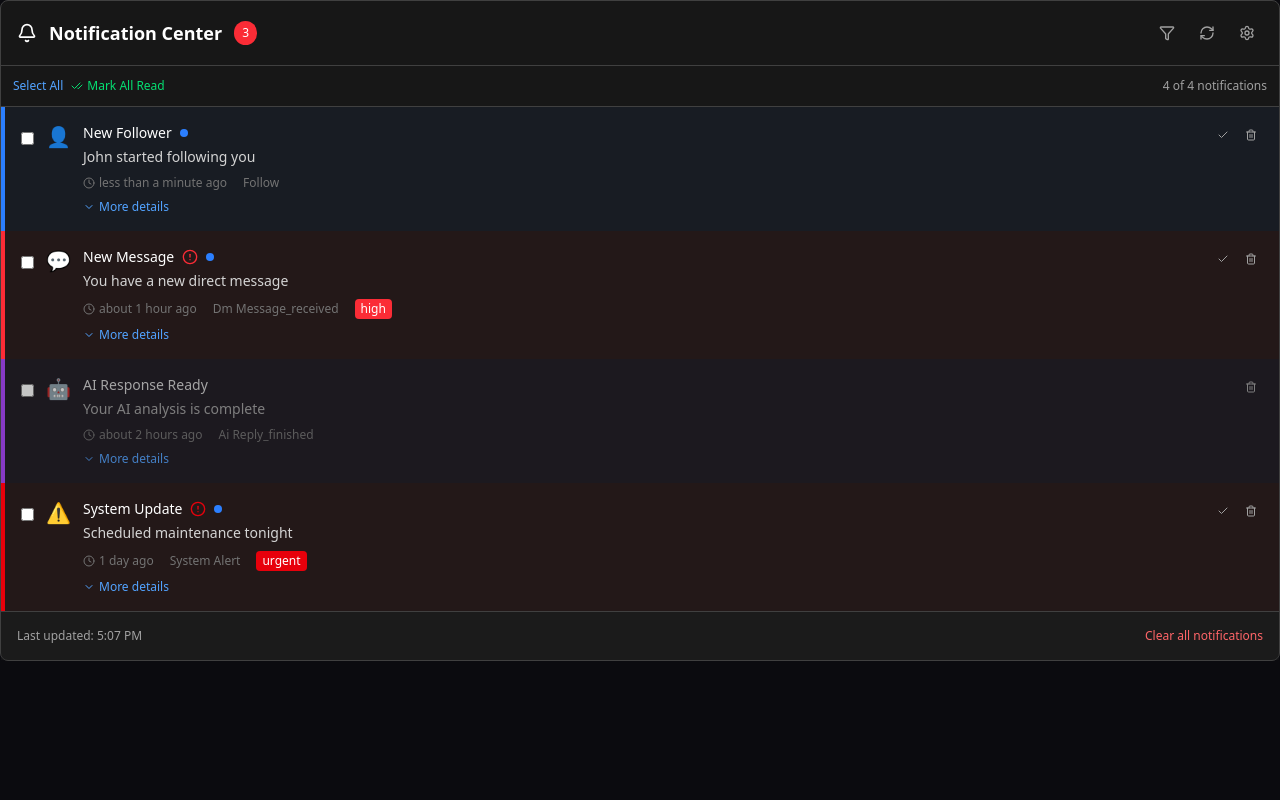
Test case: NotificationCenter › Filters › should filter by status
Note: Open filters
Click the button titled "Toggle filters" at (1167, 33), box [1151,17,1183,49]
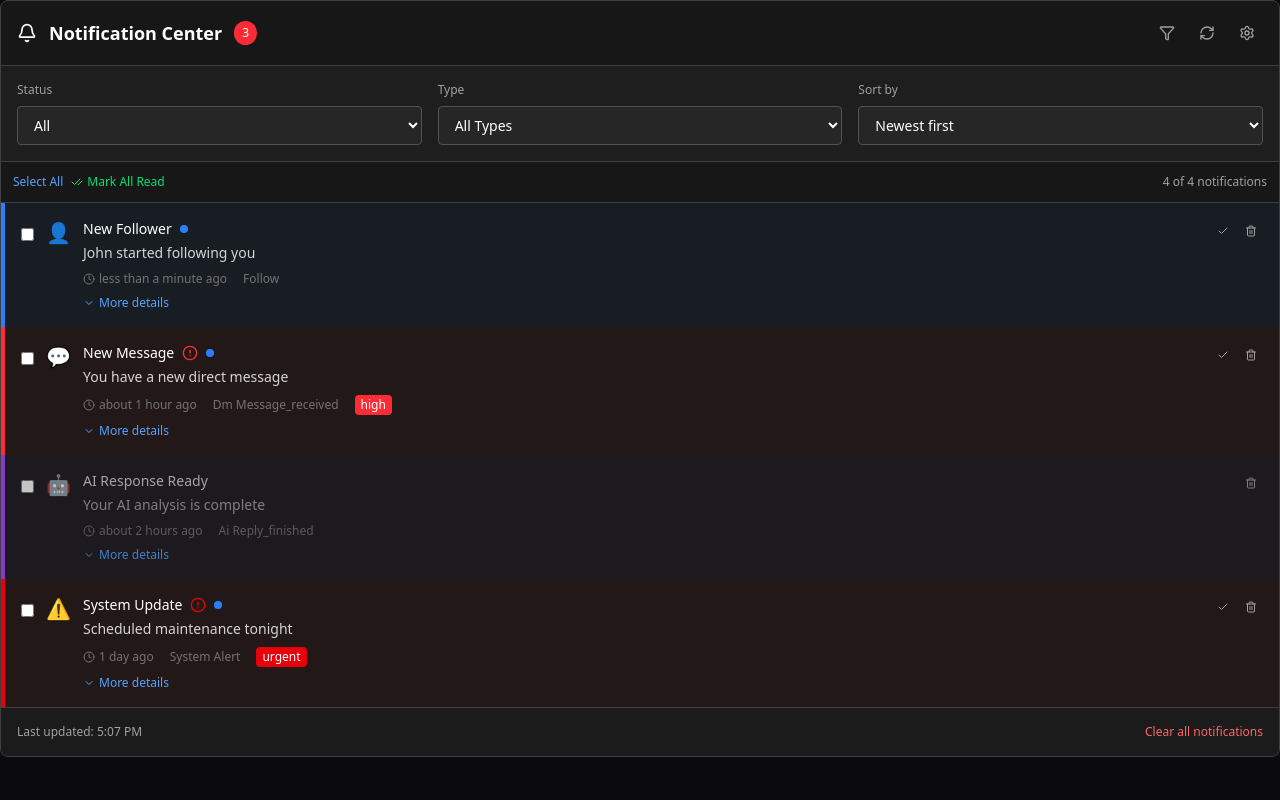
Note: Change status filter to unread
Select "Unread" in the dropdown showing "All" below "Status" at (219, 126), box [17,106,422,145]
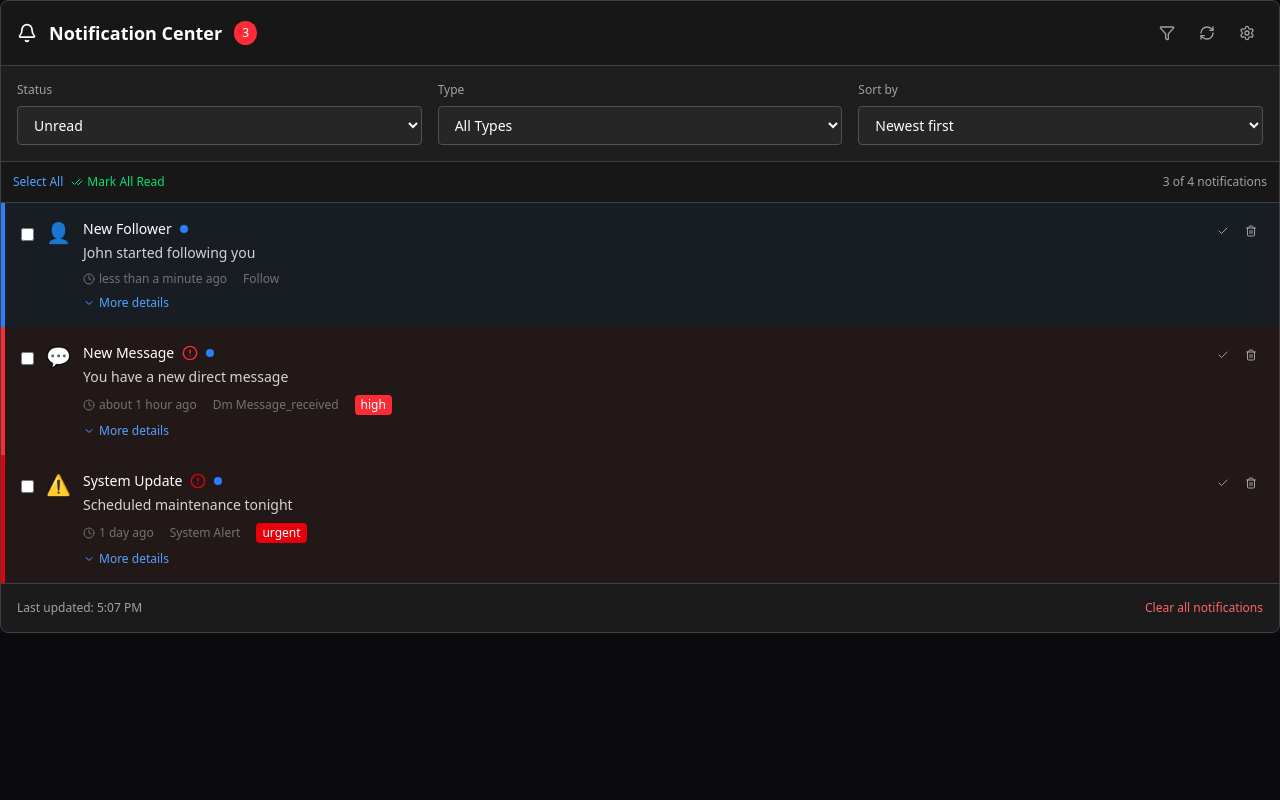
Expected: the heading "New Follower" is shown, [83,219,172,239]
Result: the heading "AI Response Ready" is gone
